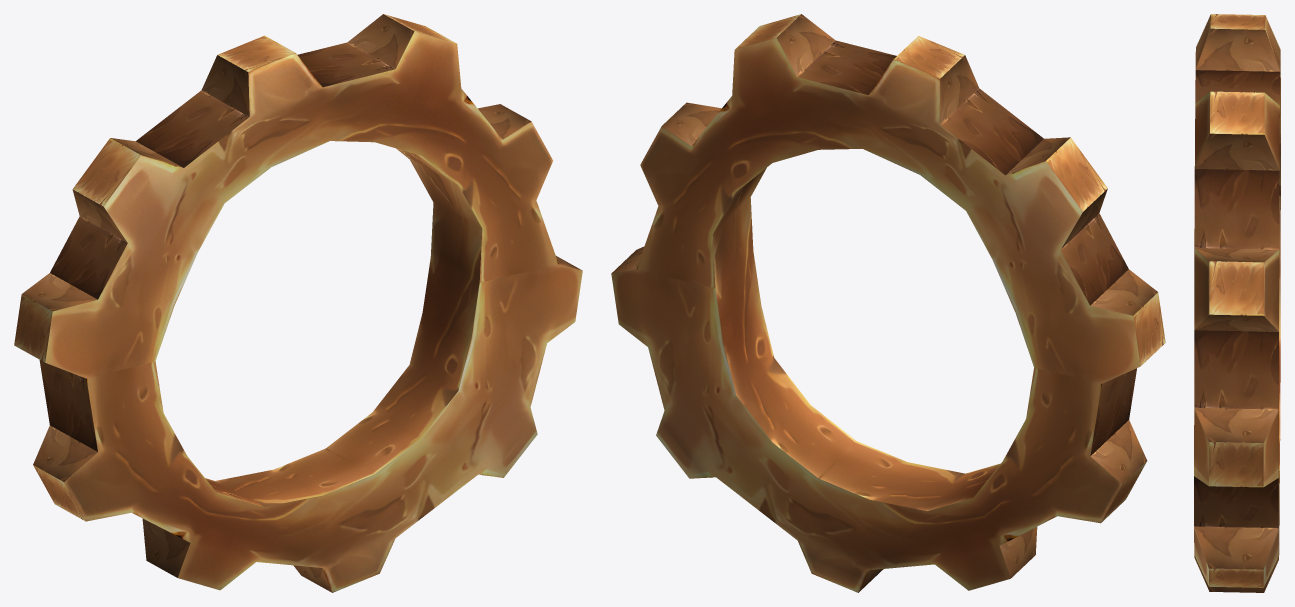
The model's file is gnomekinggearsmall.obj.
3 views of the same model, side by side, from view 1: azimuth 30°, elevation 25°; view 2: azimuth 150°, elevation 25°; view 3: azimuth 270°, elevation 25° (orthographic). The views are drawn at different scales.
Visible parts, largest first — view 1: gnomekinggearsmall; view 2: gnomekinggearsmall; view 3: gnomekinggearsmall.
Boxes of the visible parts, x1=… form: gnomekinggearsmall: x1=14, y1=14, x2=582, y2=592; gnomekinggearsmall: x1=611, y1=14, x2=1165, y2=592; gnomekinggearsmall: x1=1194, y1=14, x2=1280, y2=592.
Size of the model in its own units: 31.31 by 30.57 by 4.51.
1 material, 1 textured.
